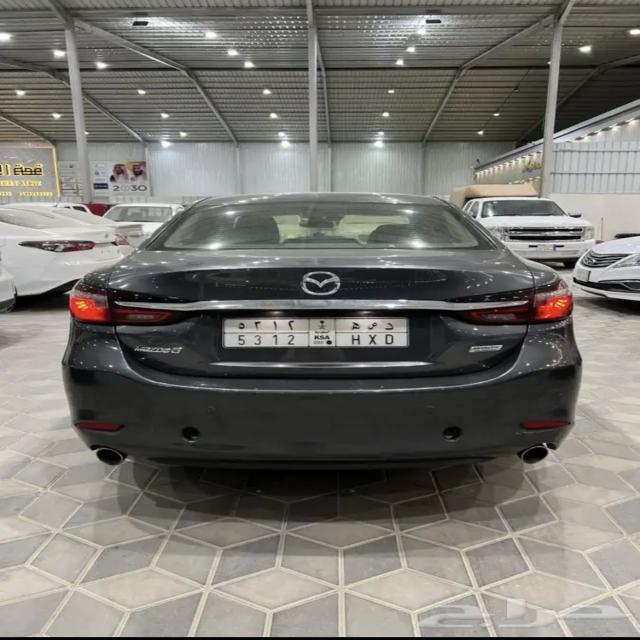license_plate: (220, 316, 412, 353)
